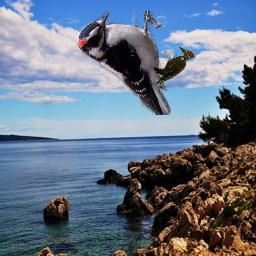Woodpecker: (76, 11, 171, 115), (154, 47, 195, 85)
